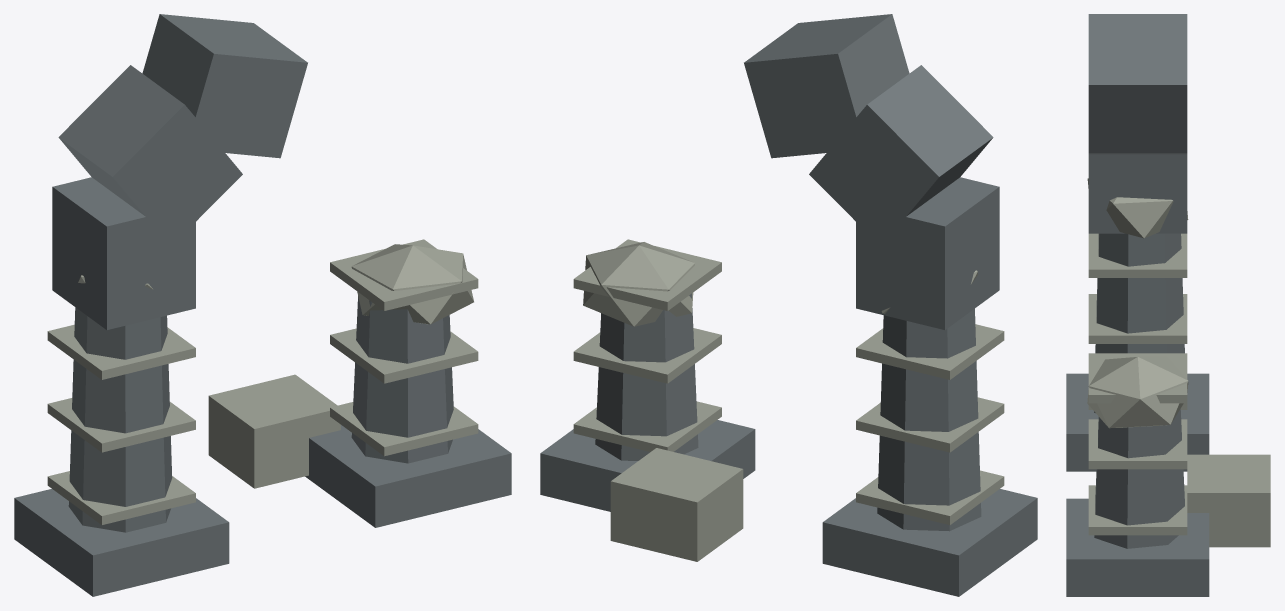
The model's file is RuinArch_B.fbx.
3 views of the same model, side by side, from view 1: azimuth 30°, elevation 25°; view 2: azimuth 150°, elevation 25°; view 3: azimuth 270°, elevation 25° (orthographic). The views are drawn at different scales.
Parts seen in each view (by area): view 1: RuinArch_B; view 2: RuinArch_B; view 3: RuinArch_B.
Boxes of the visible parts, box(x1,y1,x2,y2) form: RuinArch_B: box(14, 14, 511, 596); RuinArch_B: box(540, 14, 1037, 596); RuinArch_B: box(1066, 14, 1270, 596).
Bounding box in the file's own units: 1.87 × 2.15 × 0.8707.
1 material, 1 textured.
